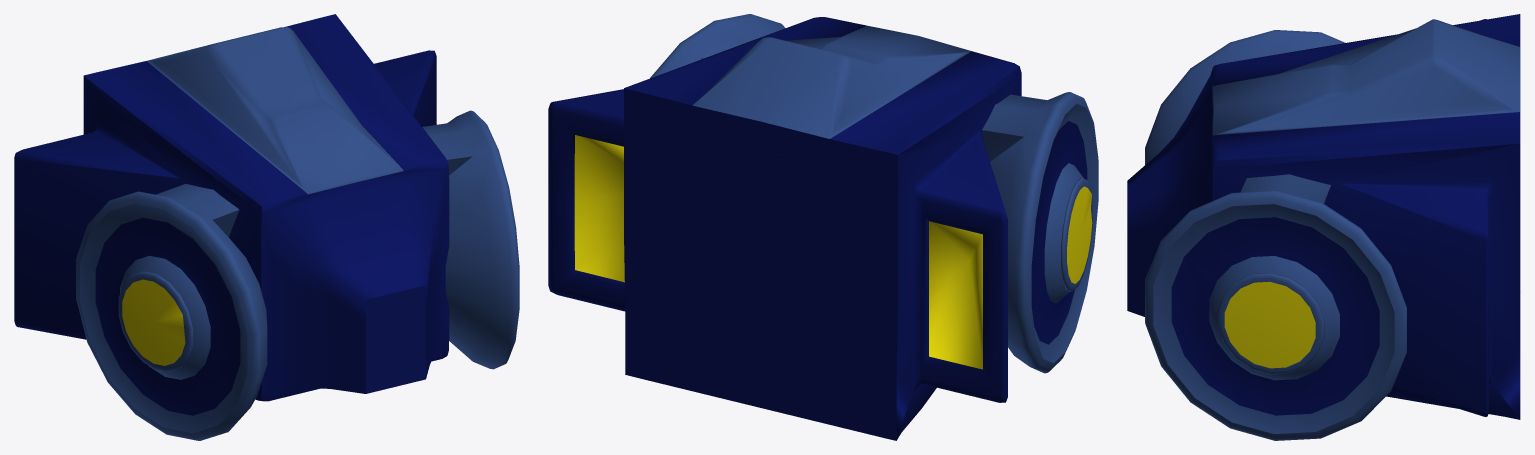
File: Vso_Station_Cannon_Laser_Head.fbx
3 renders of one model, left to right at view 1: azimuth 30°, elevation 25°; view 2: azimuth 150°, elevation 25°; view 3: azimuth 270°, elevation 25°, orthographic. The views are drawn at different scales.
Parts seen in each view (by area): view 1: Vso_Station_Cannon_Laser_Head; view 2: Vso_Station_Cannon_Laser_Head; view 3: Vso_Station_Cannon_Laser_Head.
Boxes of the visible parts, x1,y1,x2,y2 form: Vso_Station_Cannon_Laser_Head: (14,14,519,440); Vso_Station_Cannon_Laser_Head: (548,14,1098,440); Vso_Station_Cannon_Laser_Head: (1127,14,1520,440).
Bounding box in the file's own units: 0.7651 × 0.5312 × 0.5868.
